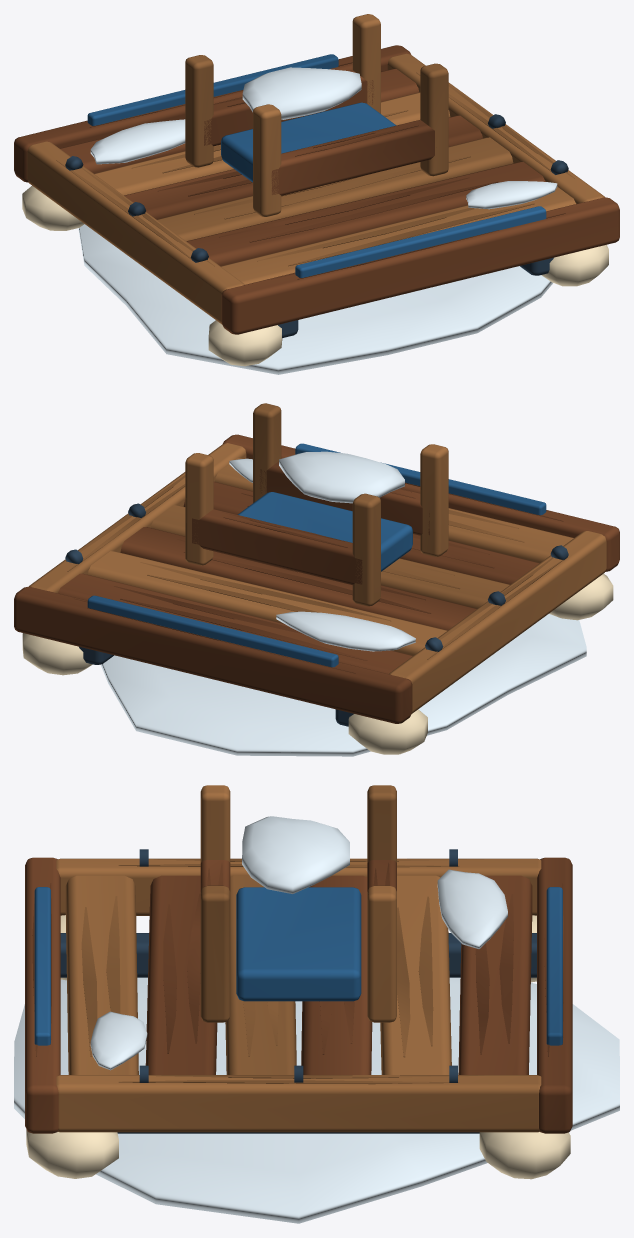
The model's file is pad_stock.glb.
The picture shows the model from 3 angles, top to bottom: view 1: azimuth 30°, elevation 25°; view 2: azimuth 150°, elevation 25°; view 3: azimuth 270°, elevation 25°; orthographic projection. The views are drawn at different scales.
Visible parts, largest first — view 1: pad_stock; view 2: pad_stock; view 3: pad_stock.
Part boxes in pixels (x1=…): pad_stock: x1=14, y1=14, x2=619, y2=374; pad_stock: x1=14, y1=403, x2=619, y2=756; pad_stock: x1=14, y1=785, x2=619, y2=1223.
Size of the model in its own units: 2.14 by 0.97 by 2.04.
